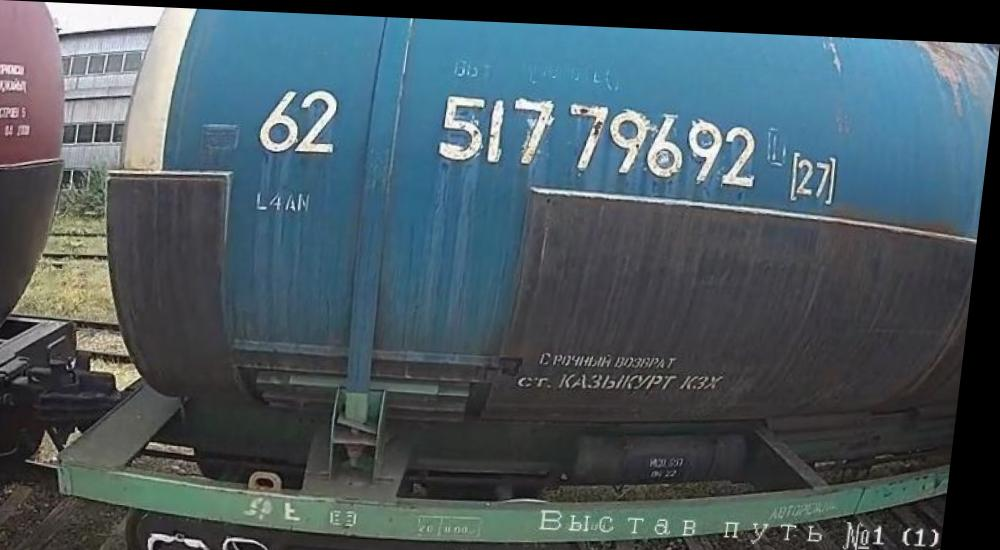Wagon-number: (431, 85, 768, 187)
